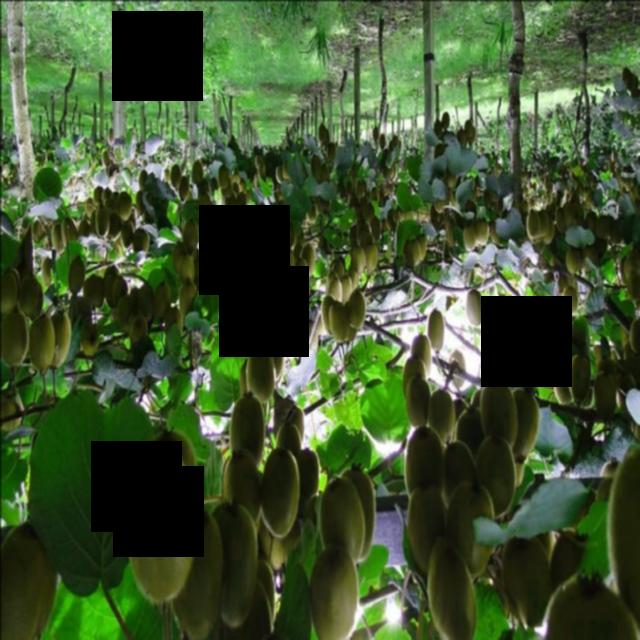kiwi: (121, 443, 196, 614), (541, 565, 640, 640), (168, 511, 224, 640), (1, 519, 60, 640), (608, 435, 640, 633), (211, 501, 257, 630), (425, 537, 478, 640), (446, 482, 495, 580), (307, 548, 358, 640), (501, 538, 549, 630), (139, 426, 203, 488), (320, 476, 363, 567), (407, 483, 446, 583), (258, 449, 300, 539), (474, 432, 516, 522), (402, 424, 446, 505), (342, 464, 378, 562), (478, 378, 520, 456), (222, 453, 264, 524), (228, 392, 266, 469), (219, 586, 275, 638), (254, 517, 298, 579), (509, 383, 541, 463), (549, 531, 586, 593), (256, 510, 293, 572), (444, 441, 476, 499), (245, 345, 277, 403), (428, 391, 456, 457), (454, 407, 486, 460), (3, 309, 29, 373), (49, 305, 73, 372), (407, 374, 432, 437), (254, 558, 280, 618), (30, 312, 55, 374), (295, 446, 322, 502), (259, 325, 284, 382), (569, 352, 593, 409), (591, 372, 618, 419), (1, 387, 25, 437), (409, 330, 433, 380), (273, 420, 305, 456), (402, 355, 428, 398), (18, 269, 40, 317), (1, 267, 22, 317), (614, 370, 636, 416), (426, 307, 446, 355), (553, 362, 571, 413), (82, 277, 106, 314), (128, 313, 148, 357), (329, 301, 349, 345), (116, 290, 136, 334), (447, 347, 467, 390), (480, 320, 500, 363), (179, 276, 199, 318), (164, 305, 186, 343), (543, 337, 563, 378), (102, 264, 119, 311), (348, 289, 367, 331), (67, 257, 85, 301), (465, 287, 485, 326), (219, 214, 237, 257), (291, 315, 309, 357), (510, 452, 527, 495), (205, 251, 225, 287), (154, 282, 170, 326), (233, 226, 251, 265), (138, 282, 154, 325), (80, 324, 100, 358), (287, 405, 307, 438), (112, 277, 130, 313), (178, 252, 196, 288), (182, 218, 200, 254), (319, 297, 334, 337), (61, 215, 79, 248), (193, 253, 207, 295), (562, 283, 579, 317), (291, 259, 308, 293), (40, 255, 56, 291), (473, 215, 490, 248), (116, 190, 133, 223), (565, 199, 581, 233), (132, 227, 150, 257), (594, 214, 612, 244), (593, 353, 615, 377), (628, 316, 640, 359), (566, 246, 582, 278), (525, 208, 541, 240), (301, 243, 316, 277), (95, 205, 110, 239), (461, 221, 476, 254), (621, 249, 640, 275), (609, 218, 625, 248), (626, 271, 640, 305), (282, 252, 296, 286), (51, 223, 65, 257), (108, 211, 122, 244), (282, 222, 297, 252), (352, 245, 366, 277), (121, 220, 135, 252), (237, 362, 249, 398), (172, 241, 184, 277), (364, 246, 378, 276), (406, 237, 420, 267), (582, 243, 598, 269), (446, 218, 458, 252), (191, 158, 205, 187), (257, 259, 269, 292), (260, 237, 275, 263), (541, 323, 557, 347), (544, 216, 556, 248), (360, 231, 376, 254), (490, 221, 504, 247), (133, 191, 146, 219), (416, 234, 428, 264), (369, 218, 381, 248), (555, 209, 567, 239), (341, 276, 353, 305), (539, 209, 551, 238), (310, 153, 322, 182), (347, 267, 360, 293), (198, 193, 211, 219), (328, 280, 342, 304), (169, 164, 183, 188), (357, 221, 373, 241), (234, 192, 247, 216), (178, 175, 190, 201), (320, 162, 332, 188), (205, 206, 218, 229), (363, 204, 375, 228), (219, 176, 231, 200), (386, 207, 396, 235), (84, 196, 96, 219), (225, 193, 237, 216), (92, 185, 104, 208), (316, 125, 328, 148), (294, 235, 303, 264), (307, 331, 317, 357), (483, 188, 493, 214), (218, 165, 228, 191), (249, 215, 259, 239), (307, 205, 319, 225), (138, 169, 148, 193), (276, 228, 285, 254), (258, 210, 268, 233), (354, 205, 364, 228), (596, 239, 608, 258), (448, 189, 458, 211), (231, 170, 241, 192), (103, 187, 115, 205), (356, 180, 365, 204), (372, 124, 381, 148), (349, 225, 357, 251), (446, 173, 456, 193), (463, 119, 473, 139), (442, 111, 452, 131), (328, 141, 337, 163), (282, 162, 290, 186), (275, 164, 283, 187), (103, 150, 112, 169), (458, 130, 467, 148), (253, 223, 263, 239), (435, 199, 445, 215), (371, 187, 379, 207), (258, 162, 266, 182), (404, 209, 417, 221), (380, 130, 386, 156), (387, 162, 395, 181), (107, 128, 115, 147), (346, 181, 354, 197), (268, 202, 275, 220), (393, 134, 399, 154), (256, 154, 263, 169), (239, 179, 247, 191), (348, 195, 354, 209)
